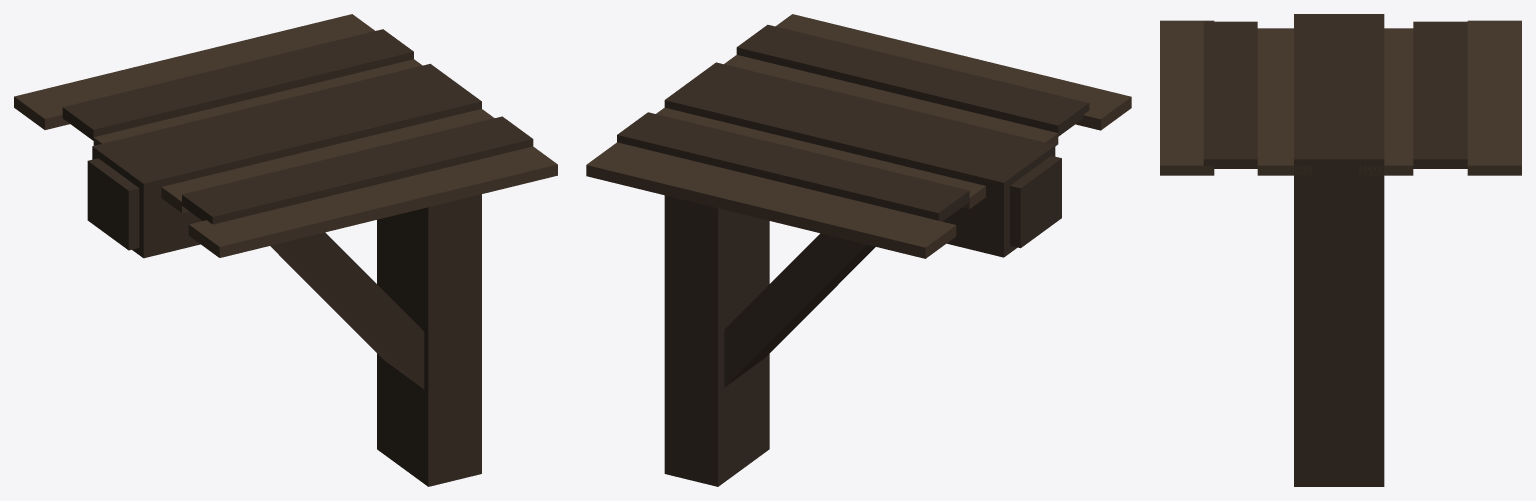
File: A_WoodFloor02.fbx
The picture shows the model from 3 angles, left to right: view 1: azimuth 30°, elevation 25°; view 2: azimuth 150°, elevation 25°; view 3: azimuth 270°, elevation 25°; orthographic projection. The views are drawn at different scales.
Visible parts, largest first — view 1: A_WoodFloor02; view 2: A_WoodFloor02; view 3: A_WoodFloor02.
Boxes of the visible parts, x1,y1,x2,y2 form: A_WoodFloor02: (14, 14, 557, 486); A_WoodFloor02: (586, 14, 1131, 486); A_WoodFloor02: (1160, 14, 1521, 486).
Size of the model in its own units: 98 by 100 by 100.
